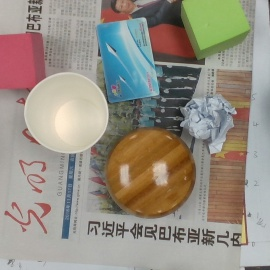card: (96, 17, 162, 102)
chess: (106, 127, 195, 221)
cup: (24, 71, 109, 155)
